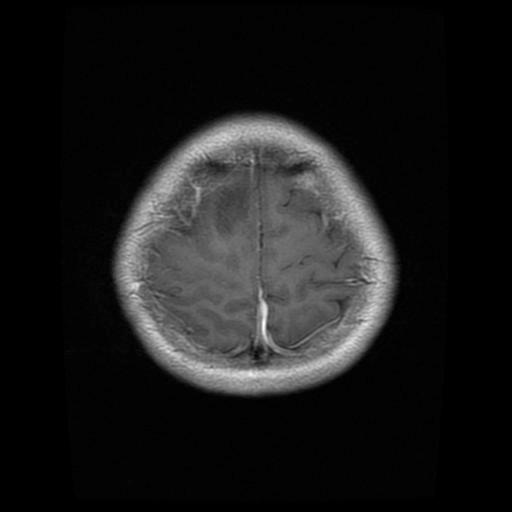Tumour-Glioma: (211, 185, 264, 237)
